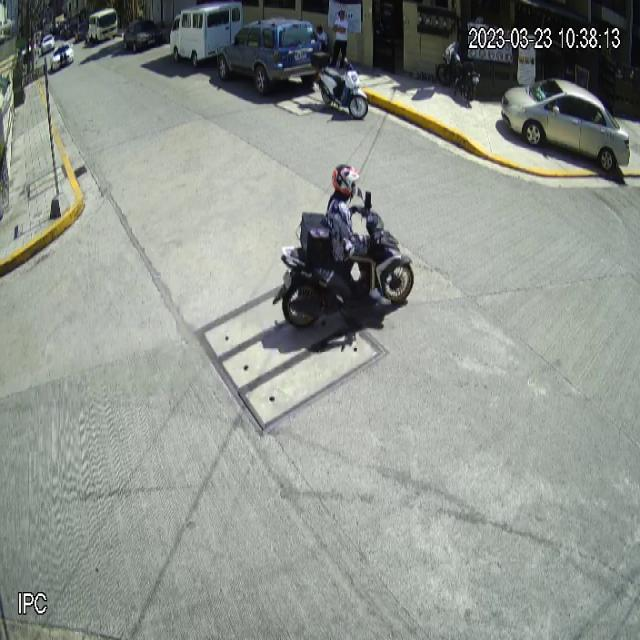Car: (501, 79, 631, 172), (217, 16, 323, 96)
Motorcycle: (269, 180, 415, 340), (309, 49, 369, 120)
Van: (169, 0, 243, 67)
